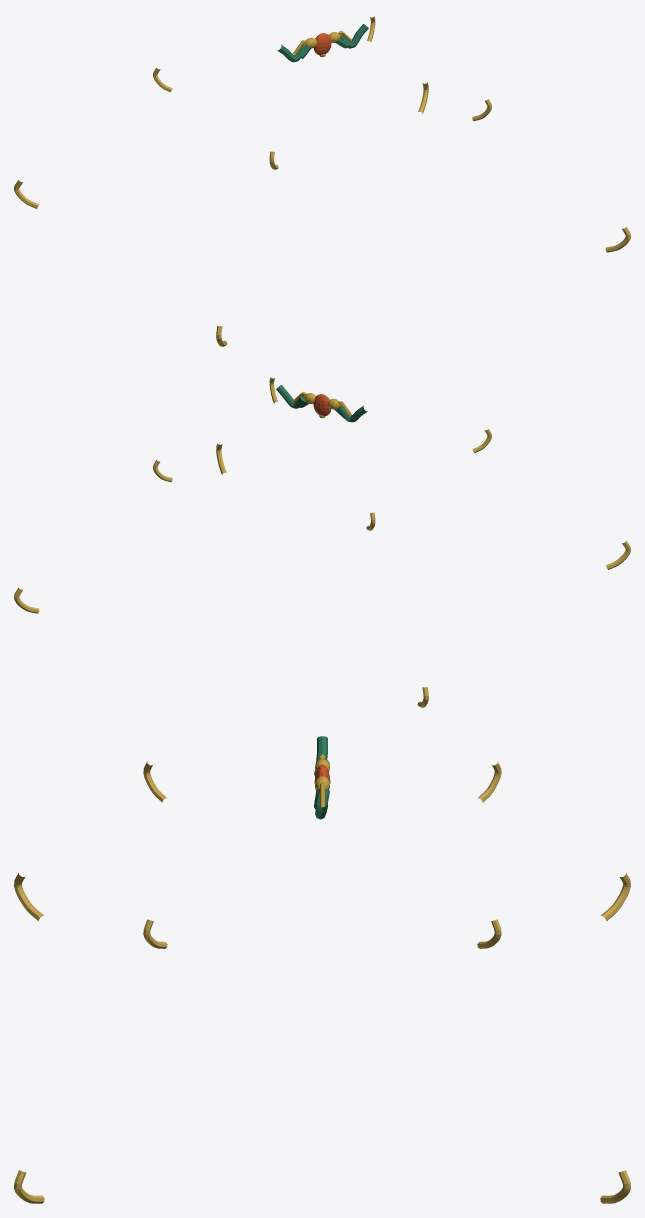
Rendered from gate-cuangan-hero.glb.
3 renders of one model, top to bottom at view 1: azimuth 30°, elevation 25°; view 2: azimuth 150°, elevation 25°; view 3: azimuth 270°, elevation 25°, orthographic. The views are drawn at different scales.
Parts seen in each view (by area): view 1: gate_cuangan_hero; view 2: gate_cuangan_hero; view 3: gate_cuangan_hero.
Part boxes in pixels (x1=…): gate_cuangan_hero: x1=14, y1=16, x2=630, y2=346; gate_cuangan_hero: x1=14, y1=377, x2=630, y2=707; gate_cuangan_hero: x1=14, y1=736, x2=630, y2=1203.
Bounding box in the file's own units: 10.51 × 4.78 × 9.01.
